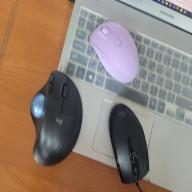mouse: (22, 55, 88, 173), (100, 97, 160, 189), (82, 10, 150, 88)
